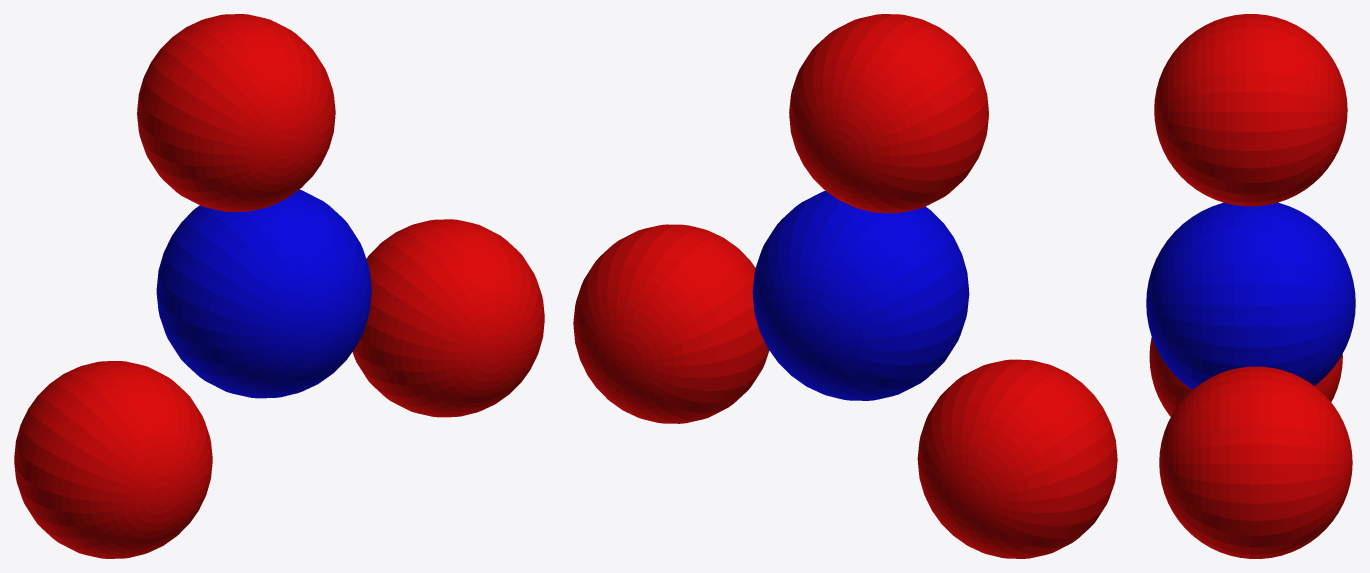
File: Potassium Nitrate.glb
The picture shows the model from 3 angles, left to right: view 1: azimuth 30°, elevation 25°; view 2: azimuth 150°, elevation 25°; view 3: azimuth 270°, elevation 25°; orthographic projection. The views are drawn at different scales.
Visible parts, largest first — view 1: world; view 2: world; view 3: world.
Part boxes in pixels (bbox=[...]): world: bbox=[14, 14, 544, 558]; world: bbox=[573, 14, 1117, 558]; world: bbox=[1146, 14, 1355, 558].
Size of the model in its own units: 3.55 by 3.29 by 1.3.
